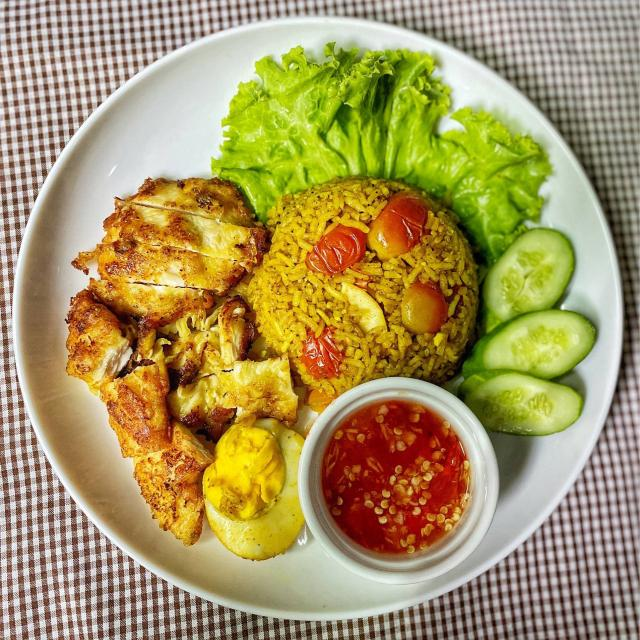Carbohydrate: (247, 173, 474, 404)
Kaow-Mokkai: (18, 23, 625, 617)
Protein: (70, 175, 300, 563)
Vegetable: (214, 39, 593, 450)
